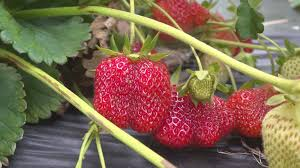ripe: (92, 43, 173, 135), (152, 72, 243, 152), (226, 79, 292, 142), (152, 1, 219, 36)
unripe: (254, 93, 299, 167), (277, 51, 297, 93)
